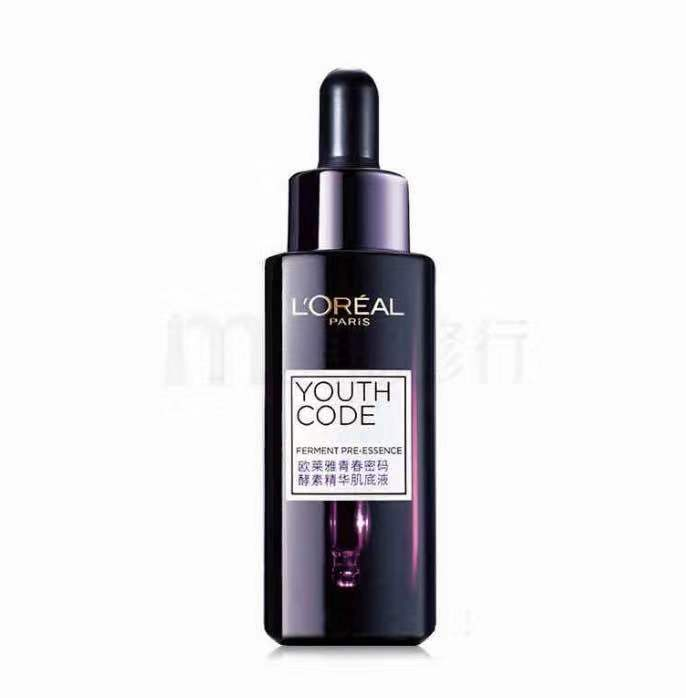cosmetic: (267, 70, 432, 645)
